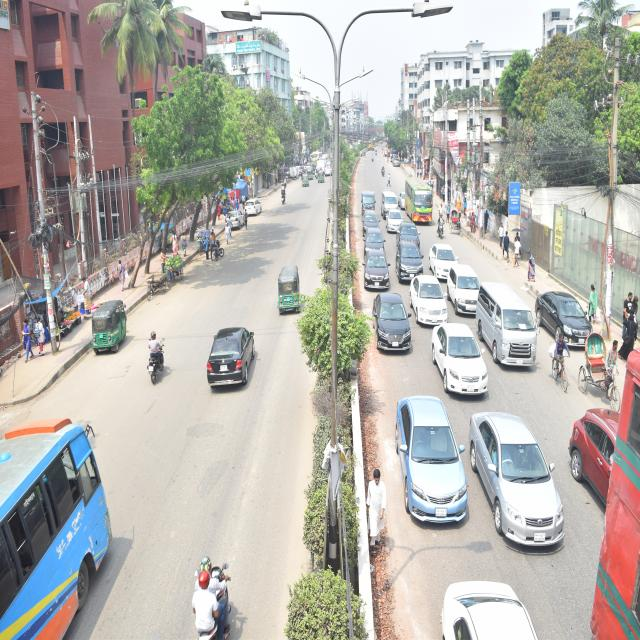bus: (2, 382, 133, 640), (557, 326, 640, 640), (405, 173, 438, 227)
car: (468, 401, 568, 561), (387, 385, 470, 538), (568, 385, 640, 530), (432, 565, 562, 640), (196, 311, 280, 399), (535, 275, 601, 379), (435, 316, 491, 414), (367, 286, 414, 370), (410, 271, 446, 336), (449, 258, 486, 321), (360, 239, 396, 300), (431, 236, 464, 282), (395, 232, 426, 280), (222, 207, 250, 239), (237, 188, 265, 218), (360, 227, 387, 257), (386, 206, 407, 235), (361, 211, 384, 233), (322, 156, 336, 180)
microbus: (474, 271, 563, 376), (381, 187, 402, 213)
motorbike: (163, 519, 271, 640), (138, 321, 180, 389), (194, 232, 237, 276), (274, 180, 293, 207), (376, 159, 388, 179)
pickup-van: (362, 182, 378, 216)
